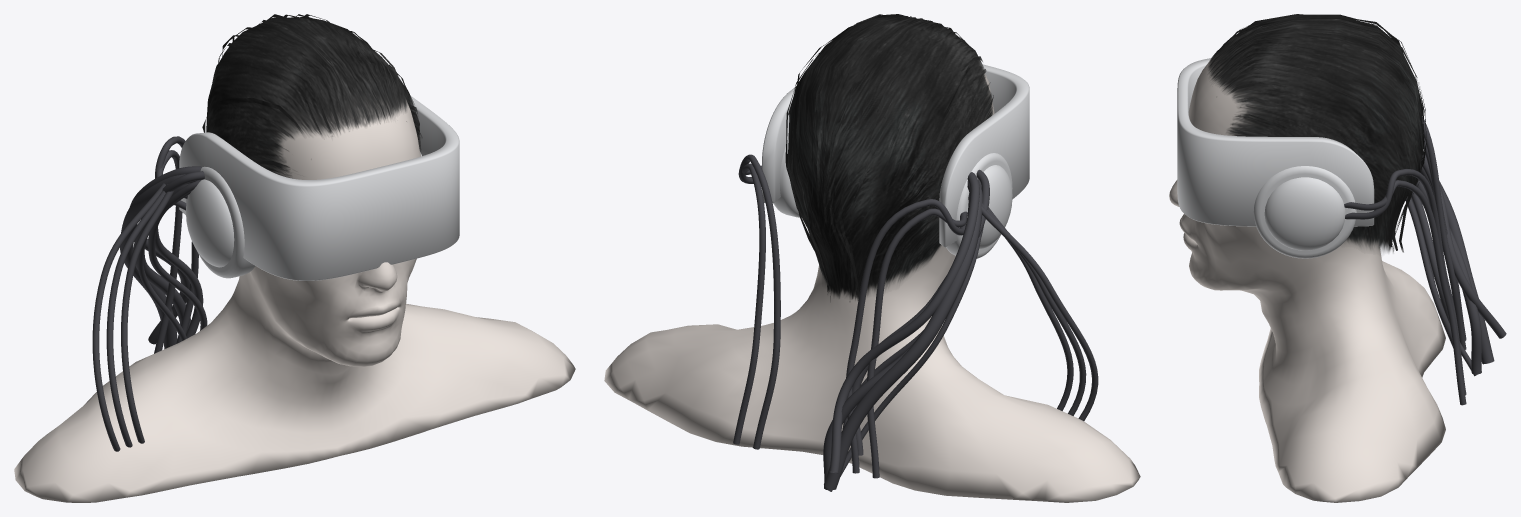
Rendered from courier-head.glb.
3 renders of one model, left to right at view 1: azimuth 30°, elevation 25°; view 2: azimuth 150°, elevation 25°; view 3: azimuth 270°, elevation 25°, orthographic. The views are drawn at different scales.
Parts seen in each view (by area): view 1: Head, Visor, Hair, VisorPodCap, CableLoop.002, CableLoop.001, CableLoop, VisorPod, CablePort, CablePort.002, CablePort.003, CableVisor.001 (+4 smaller); view 2: Head, Hair, Visor, CablePort, CablePort.001, CableVisor.002, CableVisor, CableVisor.003, CableVisor.001, CableLoop.002, VisorPodCap, CablePort.004 (+6 smaller); view 3: Head, Hair, Visor, VisorPodCap.001, VisorPod.001, CableVisor.003, CableVisor, CableVisor.002, CablePort.001, CablePort.005, CablePort, CablePort.003 (+1 smaller).
Boxes of the visible parts, <box> form: Head: <box>14,100,575,502</box>; Visor: <box>179,95,459,280</box>; Hair: <box>202,14,422,177</box>; VisorPodCap: <box>186,179,234,267</box>; CableLoop.002: <box>92,183,165,451</box>; CableLoop.001: <box>106,184,167,447</box>; CableLoop: <box>121,190,174,443</box>; VisorPod: <box>186,166,255,278</box>; CablePort: <box>120,174,196,348</box>; CablePort.002: <box>155,171,204,338</box>; CablePort.003: <box>148,180,207,330</box>; CableVisor.001: <box>154,150,188,353</box>; Head: <box>604,69,1140,502</box>; Hair: <box>785,14,993,301</box>; Visor: <box>762,64,1029,247</box>; CablePort: <box>824,181,982,489</box>; CablePort.001: <box>829,172,979,473</box>; CableVisor.002: <box>738,154,780,449</box>; CableVisor: <box>846,199,965,473</box>; CableVisor.003: <box>733,163,765,444</box>; CableVisor.001: <box>867,208,967,478</box>; CableLoop.002: <box>981,206,1098,420</box>; VisorPodCap: <box>967,165,1012,248</box>; CablePort.004: <box>828,236,980,491</box>; Head: <box>1169,56,1445,502</box>; Hair: <box>1207,14,1426,252</box>; Visor: <box>1177,58,1374,226</box>; VisorPodCap.001: <box>1264,177,1345,250</box>; VisorPod.001: <box>1253,166,1356,258</box>; CableVisor.003: <box>1344,180,1466,405</box>; CableVisor: <box>1422,117,1466,349</box>; CableVisor.002: <box>1345,169,1466,395</box>; CablePort.001: <box>1421,155,1506,338</box>; CablePort.005: <box>1416,180,1481,374</box>; CablePort: <box>1420,167,1494,364</box>; CablePort.003: <box>1405,196,1453,347</box>.
Size of the model in its own units: 0.5198 by 0.3736 by 0.3109.
Materials: 7 (1 with a texture image).
